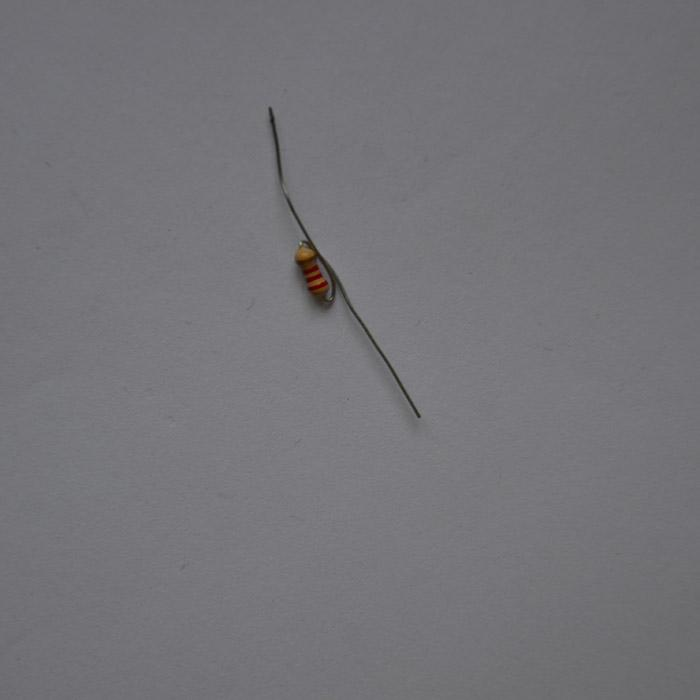resistor: (294, 243, 329, 297)
